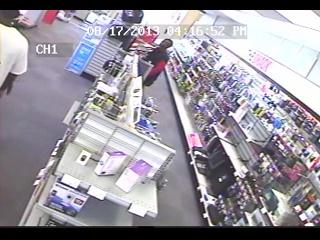Normal: (0, 19, 30, 101), (141, 38, 173, 87)
